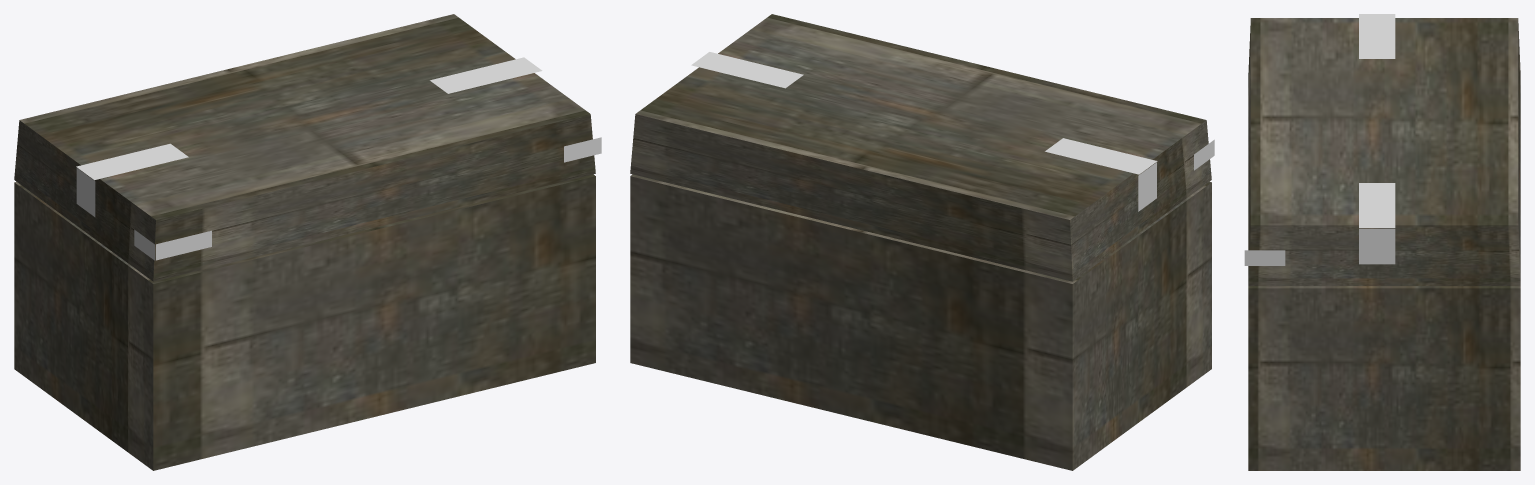
The model's file is moneychest.glb.
The picture shows the model from 3 angles, left to right: view 1: azimuth 30°, elevation 25°; view 2: azimuth 150°, elevation 25°; view 3: azimuth 270°, elevation 25°; orthographic projection. The views are drawn at different scales.
Parts seen in each view (by area): view 1: Cube, bronze; view 2: Cube, bronze; view 3: Cube, bronze.
Part boxes in pixels (left/top/right/bottom): Cube: left=14, top=14, right=595, bottom=470; bronze: left=76, top=57, right=601, bottom=260; Cube: left=630, top=14, right=1211, bottom=470; bronze: left=691, top=52, right=1214, bottom=211; Cube: left=1248, top=18, right=1520, bottom=470; bronze: left=1244, top=14, right=1395, bottom=265.
Size of the model in its own units: 2.03 by 1.08 by 1.11.
Materials: 1 (1 with a texture image).
